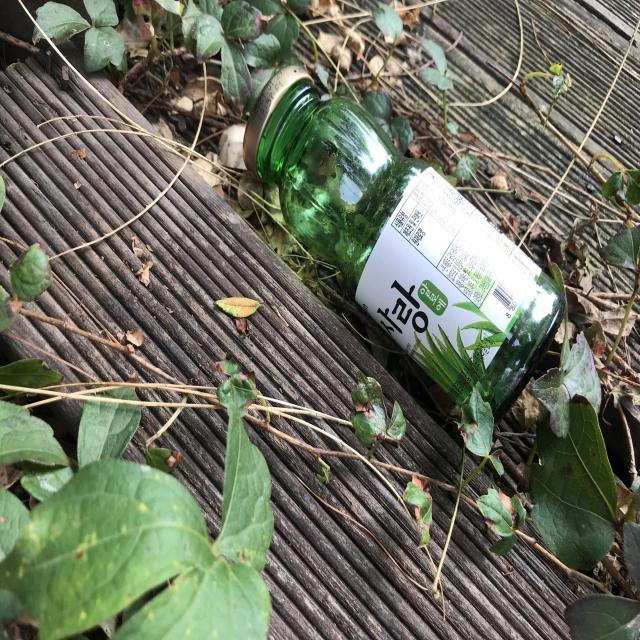glass: (244, 65, 566, 418)
